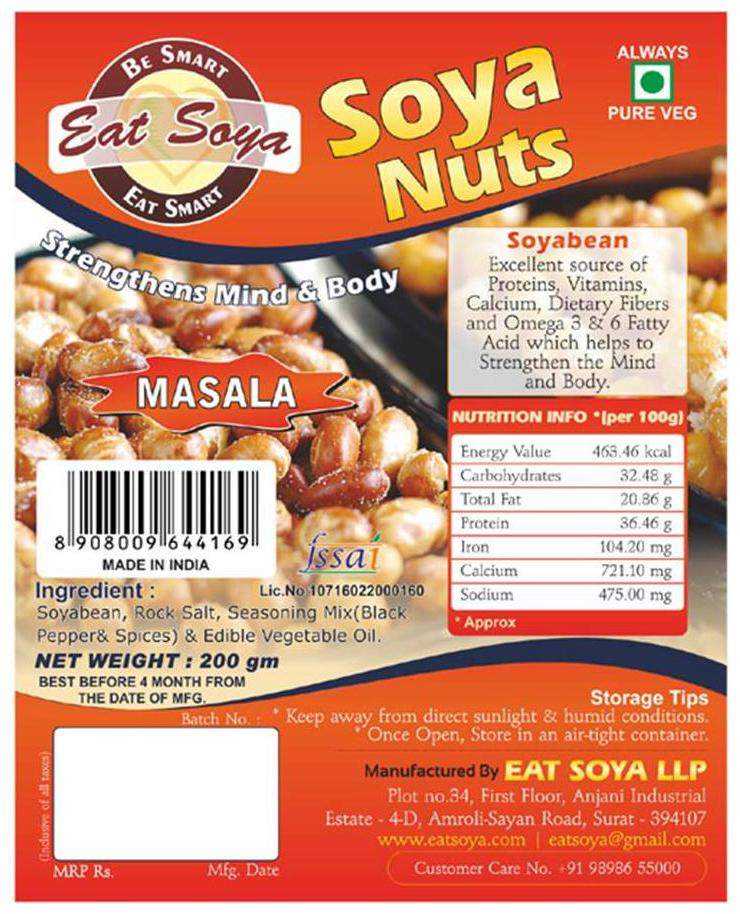fssai: (296, 530, 384, 575)
